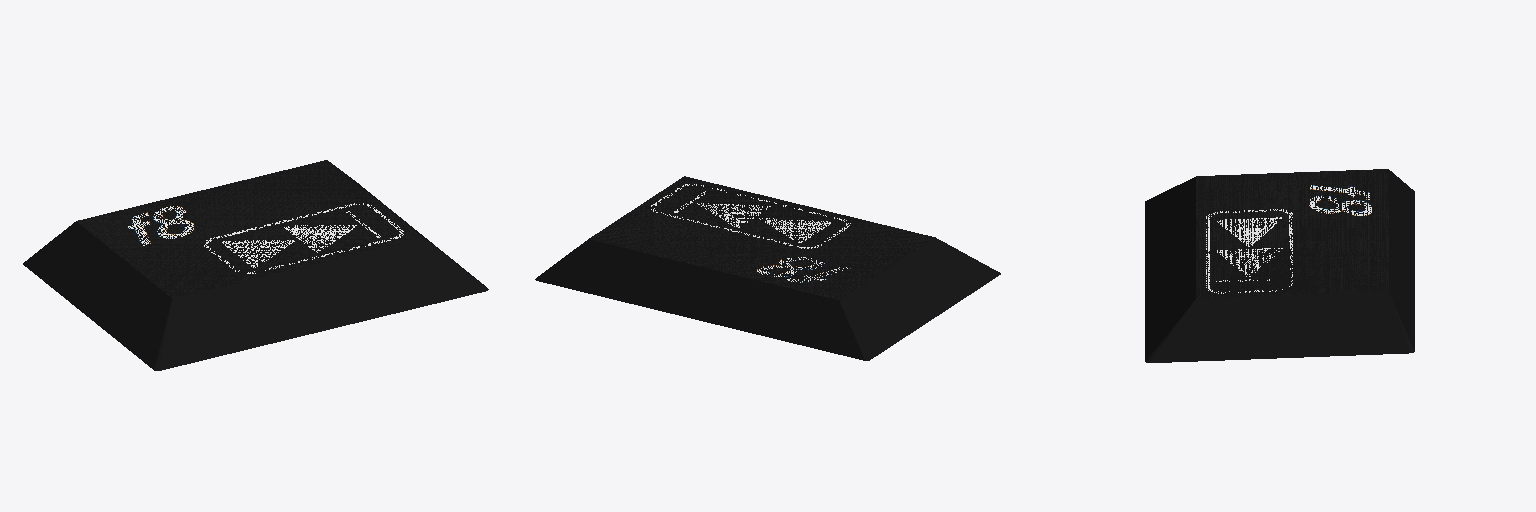
3 renders of one model, left to right at view 1: azimuth 30°, elevation 25°; view 2: azimuth 150°, elevation 25°; view 3: azimuth 270°, elevation 25°, orthographic.
Parts seen in each view (by area): view 1: Group73/mesh69/mesh69-geometry#mesh69-geometry; view 2: Group73/mesh69/mesh69-geometry#mesh69-geometry; view 3: Group73/mesh69/mesh69-geometry#mesh69-geometry.
Boxes of the visible parts, x1=… form: Group73/mesh69/mesh69-geometry#mesh69-geometry: x1=23, y1=160, x2=488, y2=370; Group73/mesh69/mesh69-geometry#mesh69-geometry: x1=535, y1=176, x2=1000, y2=360; Group73/mesh69/mesh69-geometry#mesh69-geometry: x1=1145, y1=169, x2=1414, y2=362.
Size of the model in its own units: 0.0754 by 0.0111 by 0.0525.
2 materials, 1 textured.